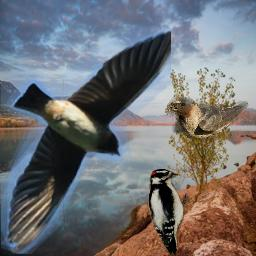Swallow: (1, 26, 171, 254), (167, 97, 249, 141)
Woodpecker: (149, 169, 193, 255)
